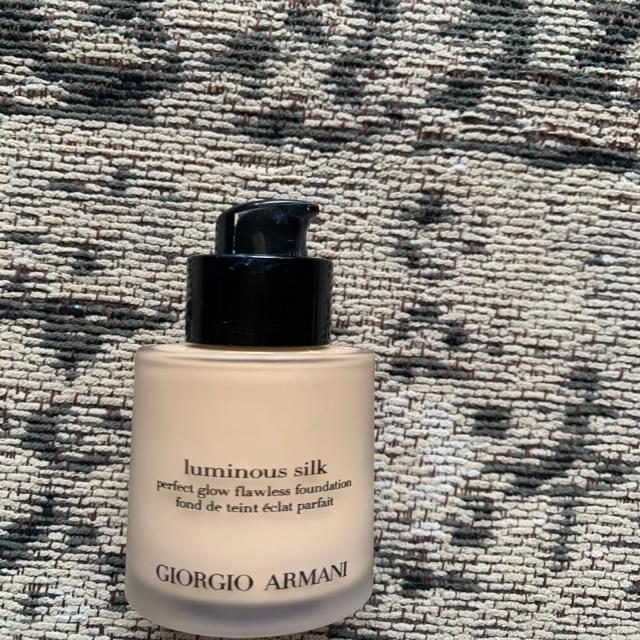foundation: (110, 156, 410, 635)
